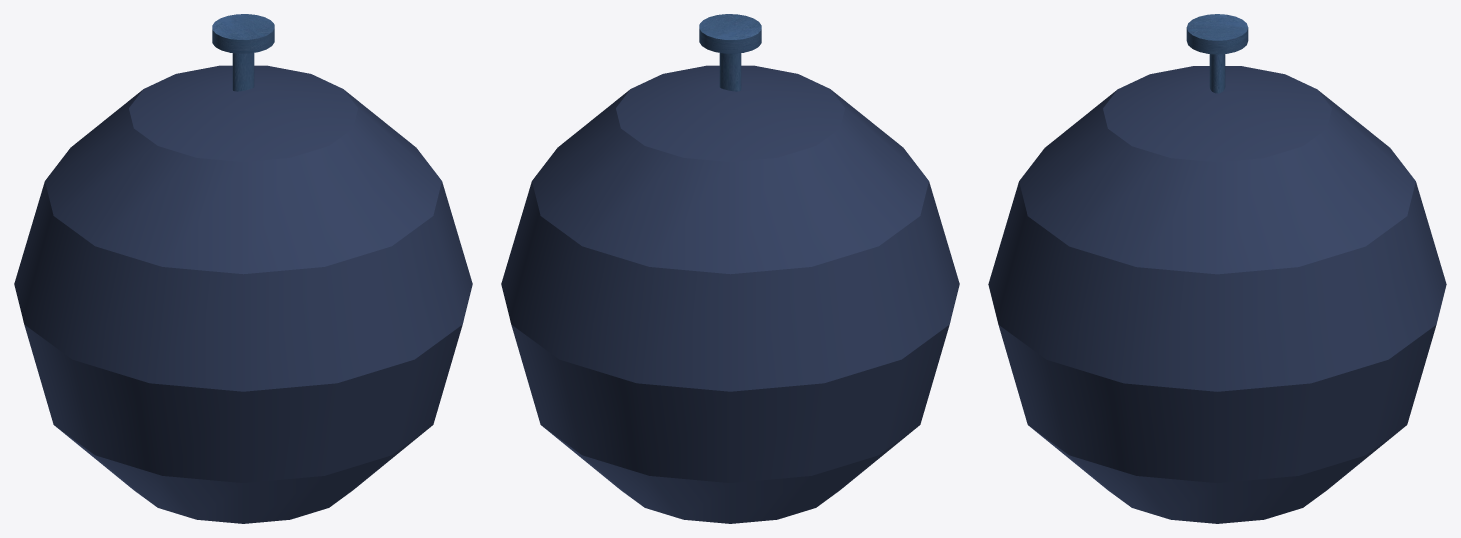
Rendered from esfera.obj.
The picture shows the model from 3 angles, left to right: view 1: azimuth 30°, elevation 25°; view 2: azimuth 150°, elevation 25°; view 3: azimuth 270°, elevation 25°; orthographic projection.
Parts seen in each view (by area): view 1: pCylinder5; view 2: pCylinder5; view 3: pCylinder5.
Boxes of the visible parts, box(x1,y1,x2,y2) form: pCylinder5: box(14, 14, 472, 523); pCylinder5: box(501, 14, 959, 523); pCylinder5: box(988, 14, 1446, 523).
Bounding box in the file's own units: 2.96 × 3.41 × 2.97.
Materials: 2 (2 with a texture image).
